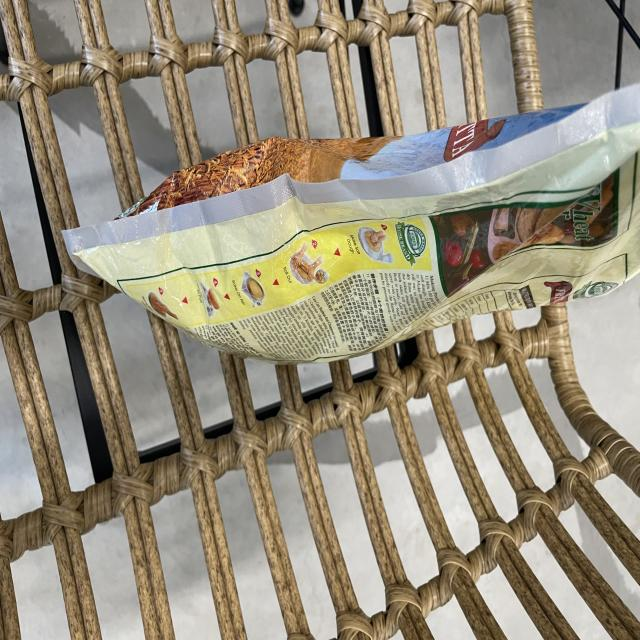object_name: (92, 178, 632, 293)
